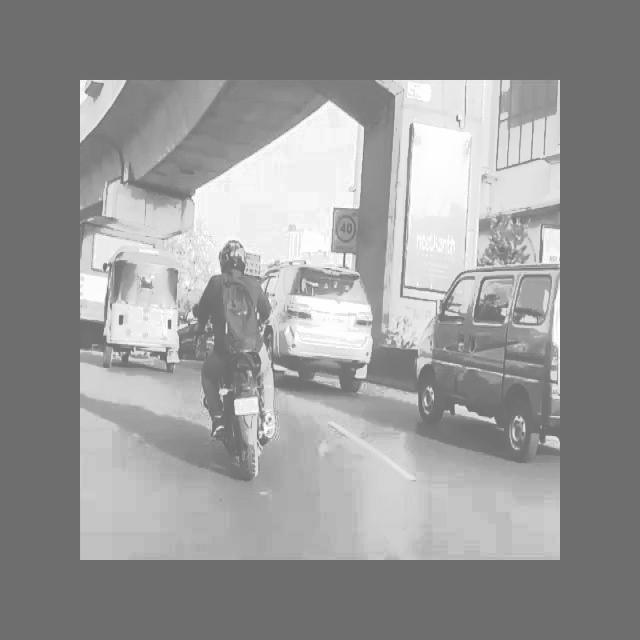Auto-Rickshaw: (100, 240, 193, 387)
Bike: (197, 260, 290, 478)
Car: (404, 266, 561, 474), (267, 248, 373, 388)
